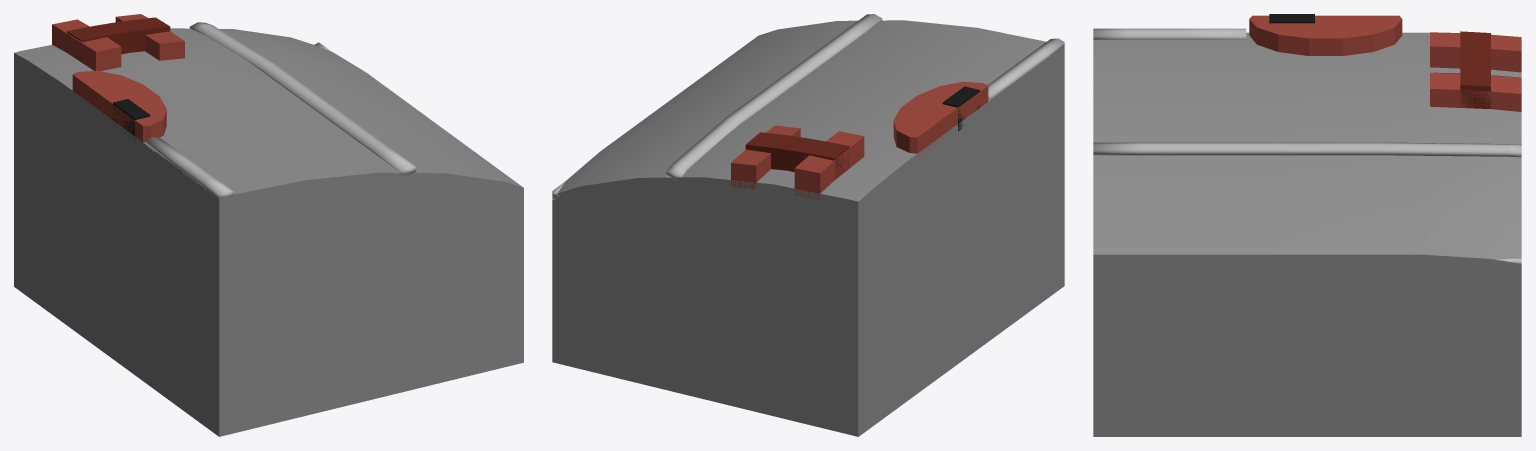
File: newshi-81.glb
The picture shows the model from 3 angles, left to right: view 1: azimuth 30°, elevation 25°; view 2: azimuth 150°, elevation 25°; view 3: azimuth 270°, elevation 25°; orthographic projection. The views are drawn at different scales.
Parts seen in each view (by area): view 1: newshi-81; view 2: newshi-81; view 3: newshi-81.
Part boxes in pixels (x1,y1,x2,y2): newshi-81: [14, 14, 523, 436]; newshi-81: [552, 14, 1064, 436]; newshi-81: [1093, 14, 1521, 436].
Size of the model in its own units: 2 by 1.62 by 2.33.
